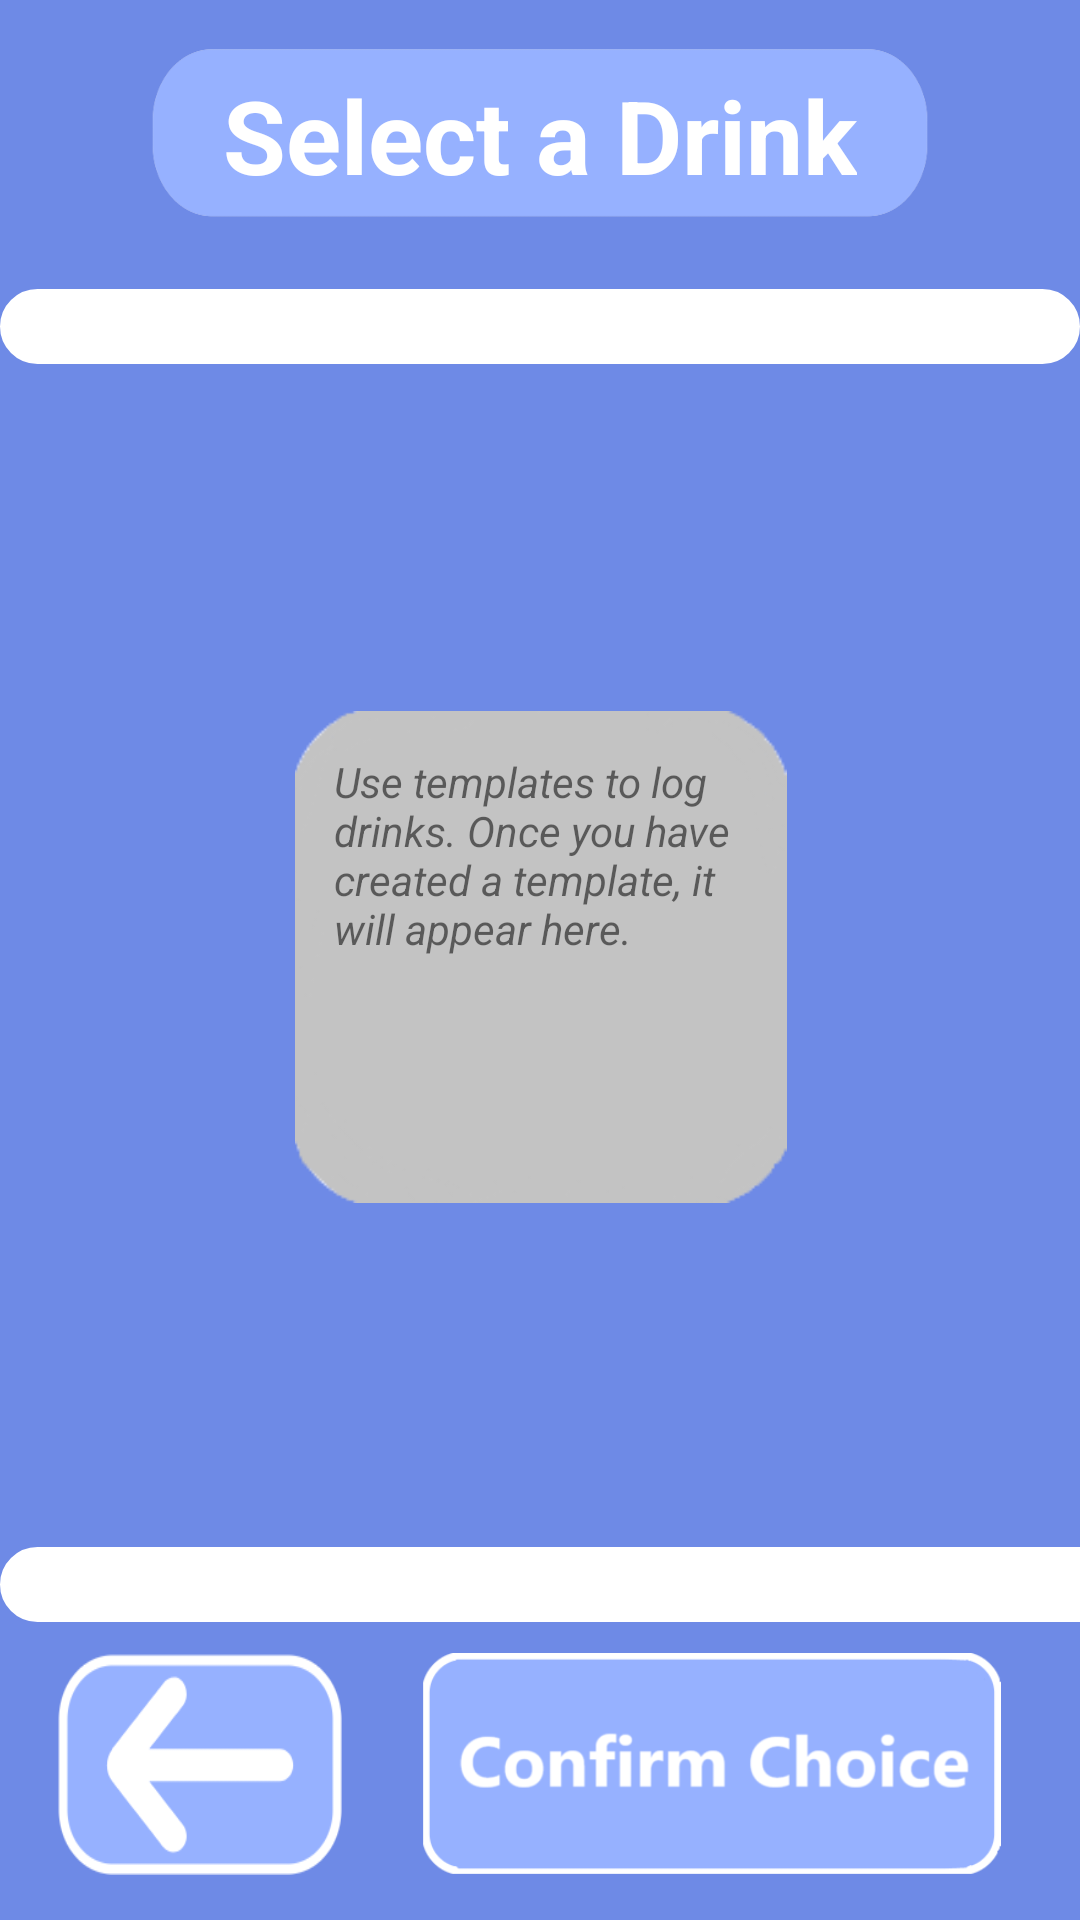

Icons on this 1080x1920 Android screen, each with its box as (x1, y1, x2, y2):
arrow not clicked: (58, 1654, 342, 1875)
